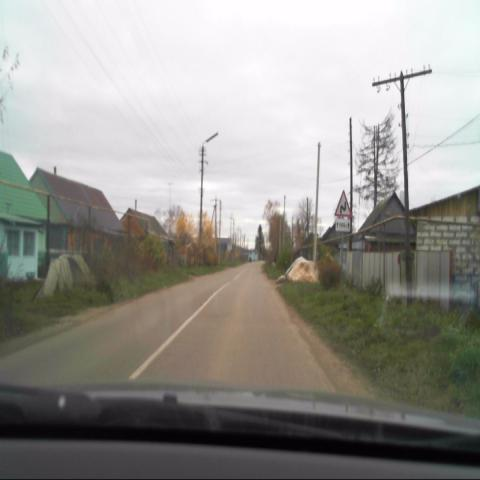1_12: (335, 190, 351, 217)
8_2_1: (336, 219, 350, 232)
